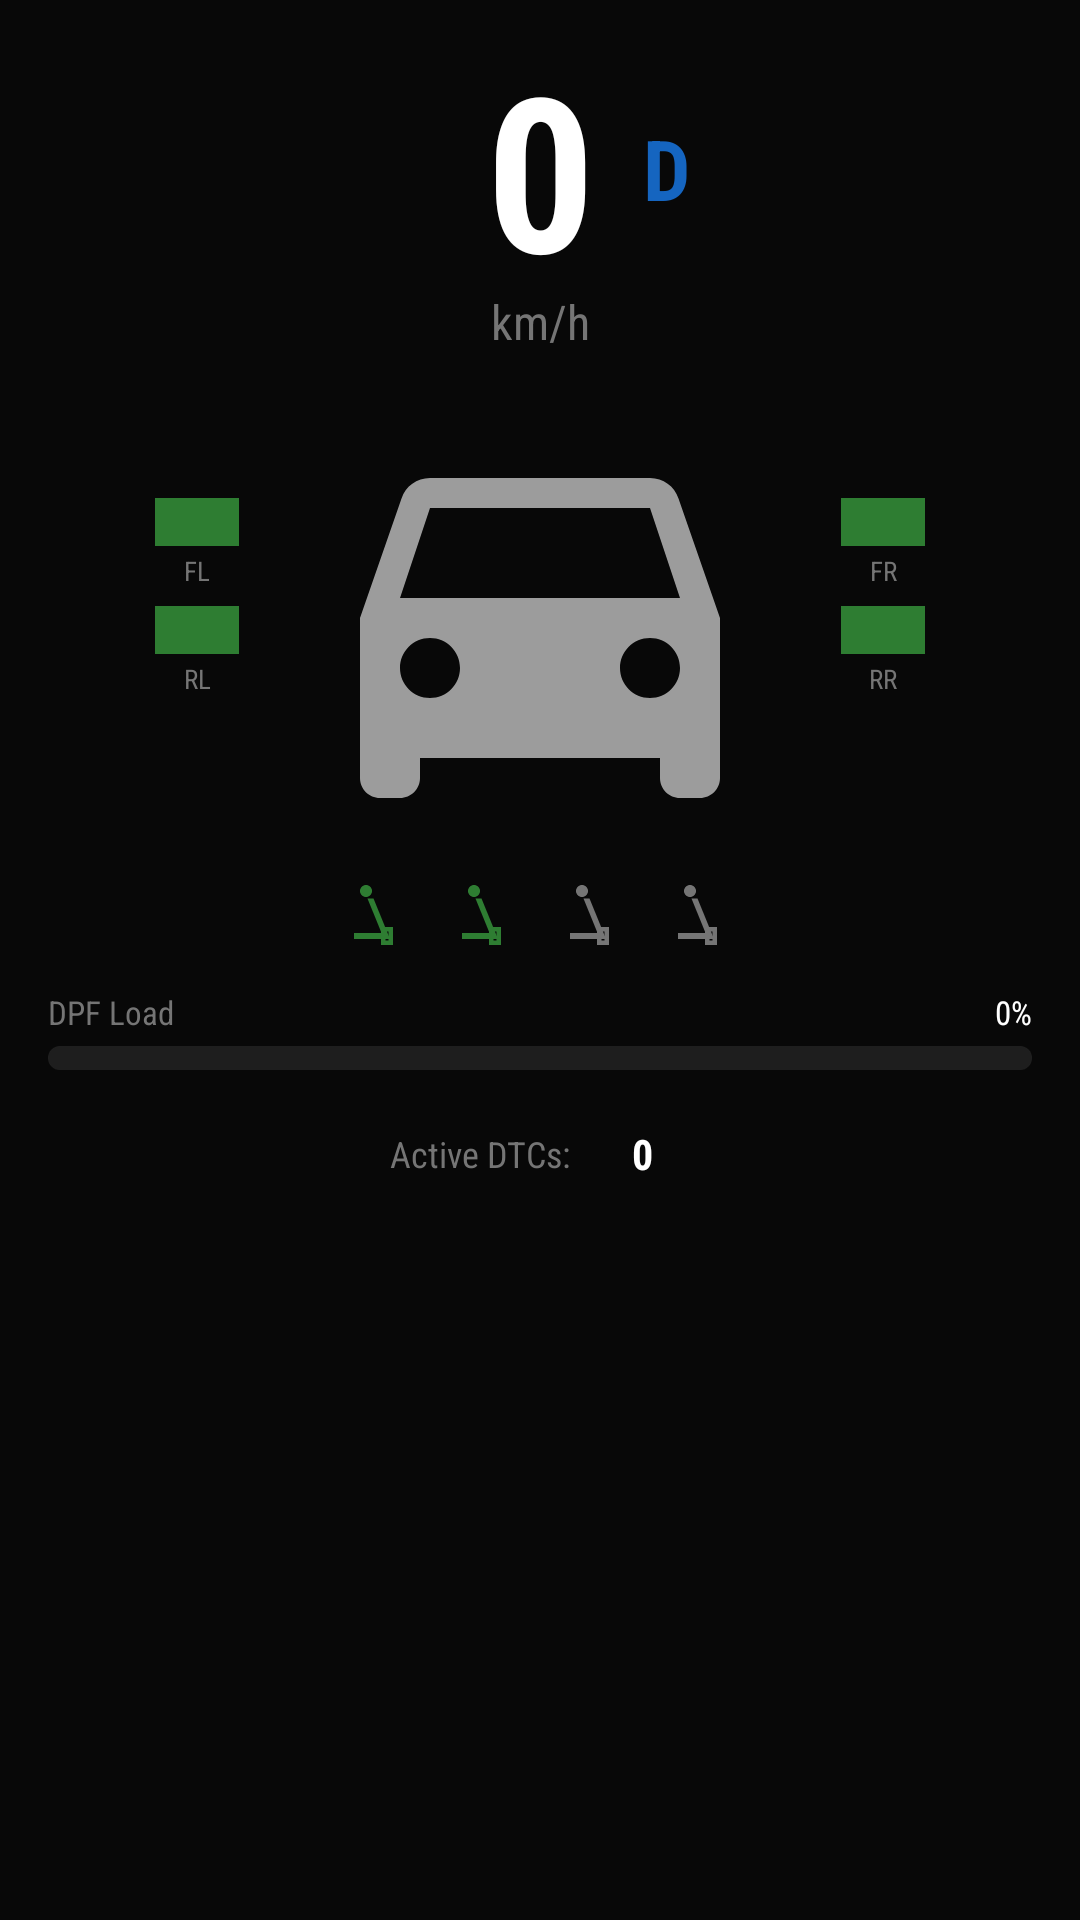

Named icons in this screenshot (1080px×1920px) and their centers, (x=x, y=y):
Front left seatbelt: (x=373, y=915)
Front right seatbelt: (x=481, y=915)
Rear left seatbelt: (x=589, y=915)
Rear right seatbelt: (x=697, y=915)
